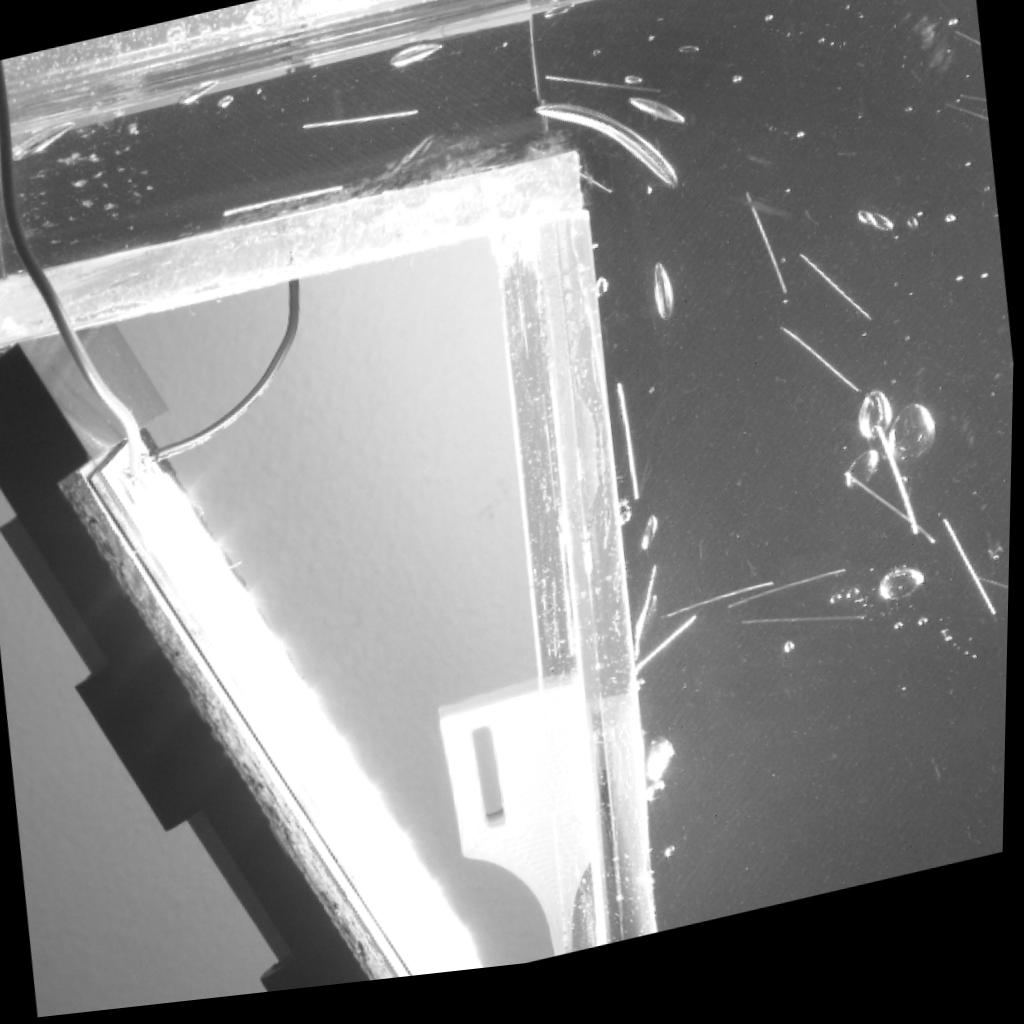Fiber: (842, 485, 940, 573), (937, 524, 1008, 643), (775, 340, 867, 422), (866, 440, 928, 561), (627, 623, 714, 702), (788, 268, 875, 347), (737, 205, 799, 314), (729, 578, 853, 629), (526, 151, 615, 212), (659, 596, 779, 638), (215, 187, 349, 224), (613, 383, 645, 523), (538, 82, 663, 109), (292, 117, 419, 141), (630, 581, 660, 678), (738, 631, 875, 648), (935, 117, 990, 154), (965, 595, 1012, 619), (950, 48, 981, 76), (958, 110, 987, 126)
